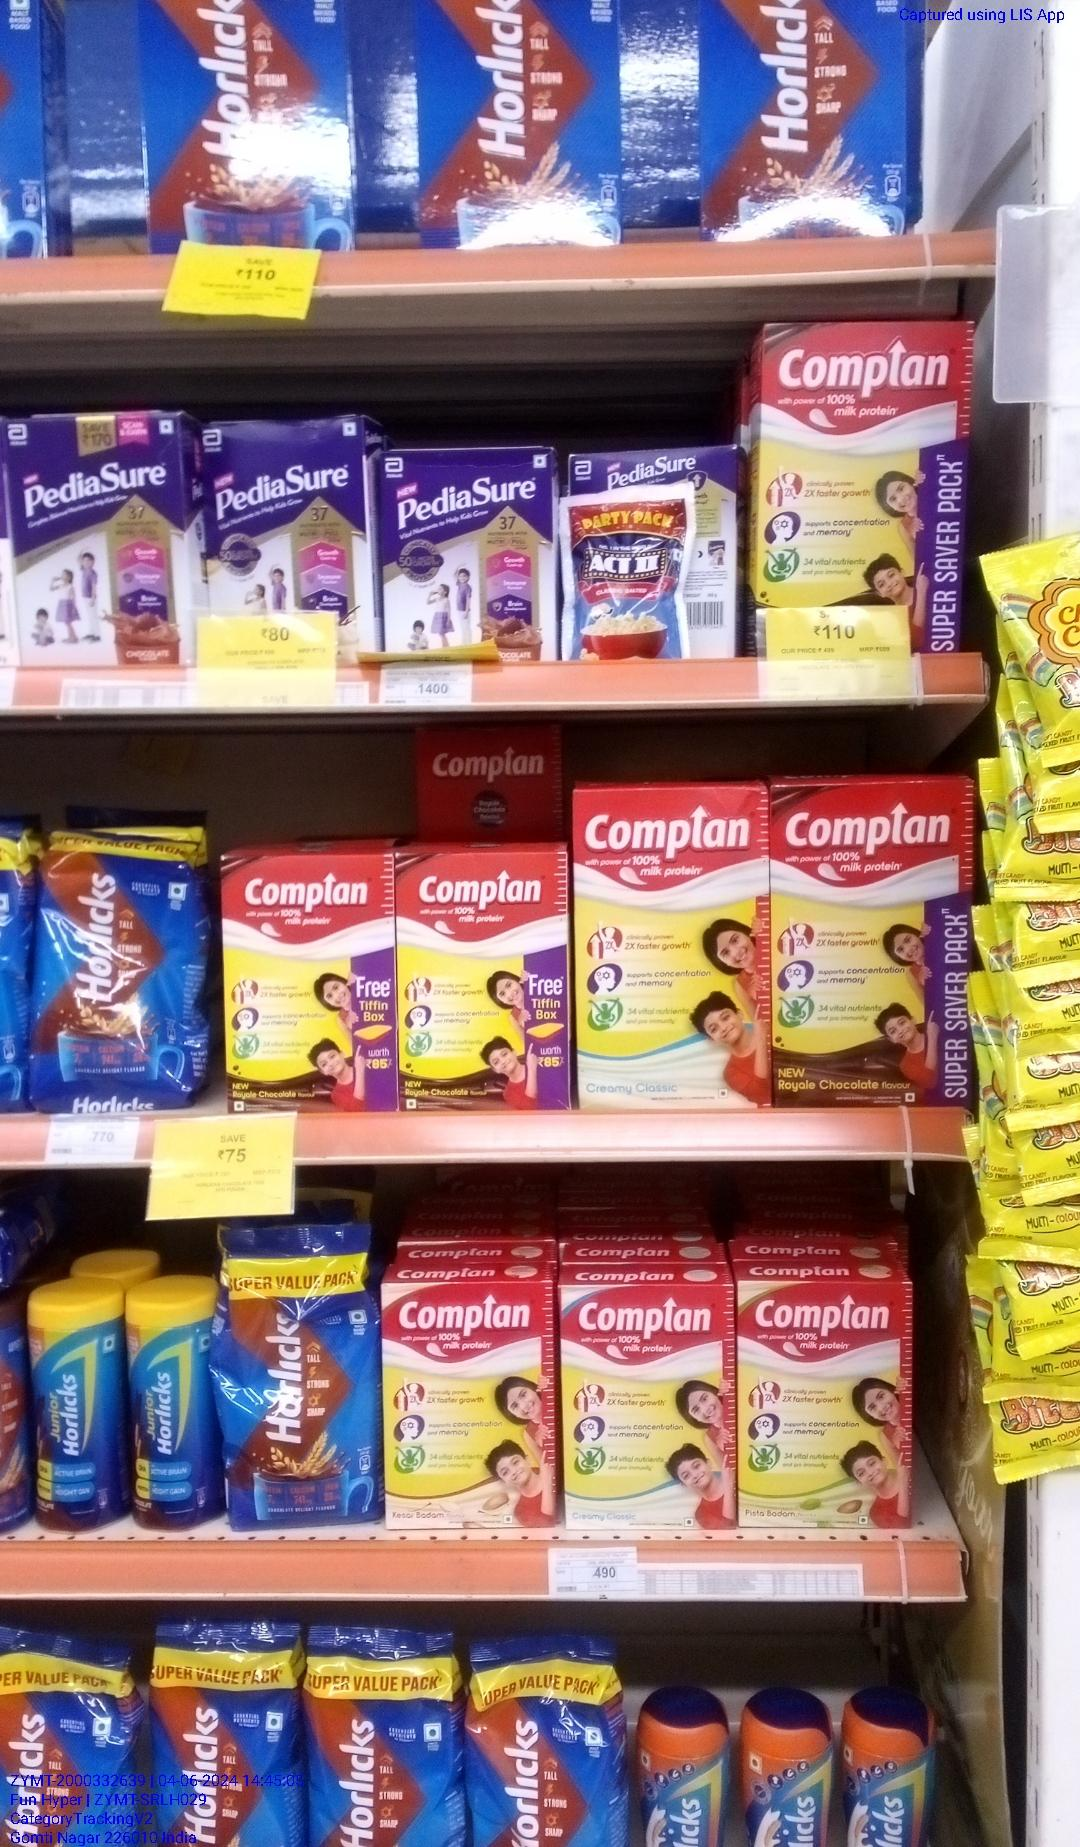COMPLAN_PISTA_BADAM_500_GMS_PACK: (741, 1269, 913, 1527)
PEDIASURE_VANILLA_500_G_PACK: (193, 414, 373, 668), (12, 414, 181, 672), (386, 447, 553, 668)
